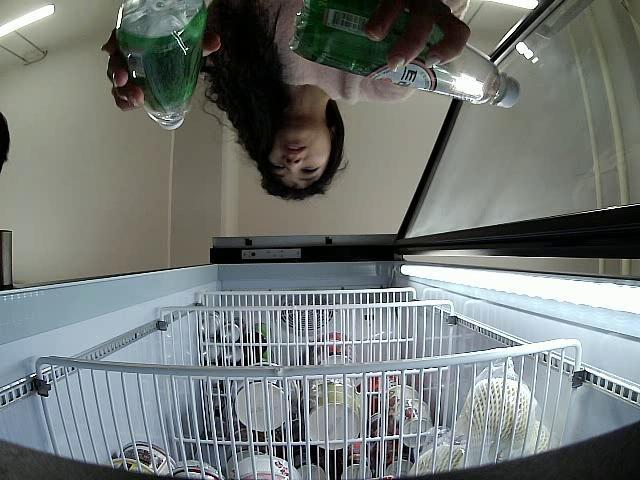18_trevi: (286, 0, 520, 111), (114, 0, 210, 131)
